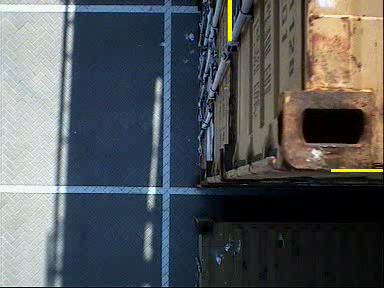groundmarker_2: (129, 30, 216, 86), (128, 158, 215, 213)
